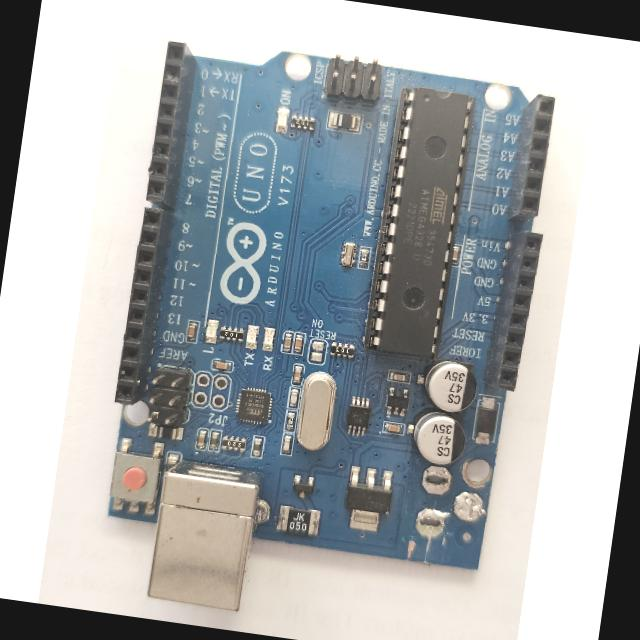missing_eps: (389, 460, 478, 597)
